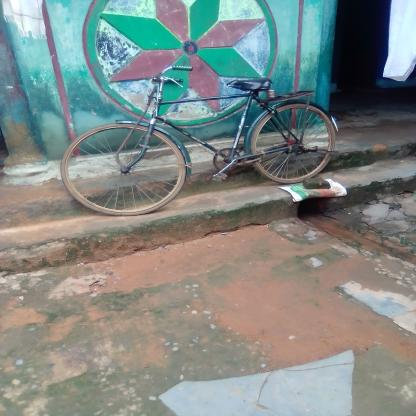bicycle: (40, 55, 372, 226)
